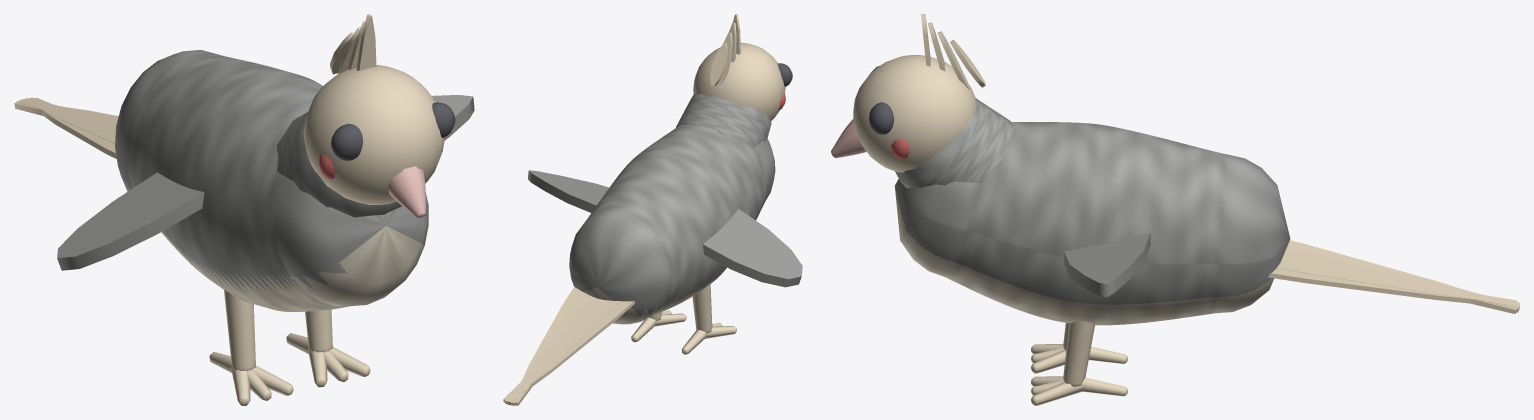
File: cockatiel-static-ai.glb
3 views of the same model, side by side, from view 1: azimuth 30°, elevation 25°; view 2: azimuth 150°, elevation 25°; view 3: azimuth 270°, elevation 25° (orthographic). The views are drawn at different scales.
Visible parts, largest first — view 1: cockatiel; view 2: cockatiel; view 3: cockatiel.
Part boxes in pixels (x1,y1,x2,y2): cockatiel: (14,14,474,405); cockatiel: (503,14,802,405); cockatiel: (831,14,1519,405).
Bounding box in the file's own units: 0.1901 × 0.1844 × 0.315.
Materials: 6 (2 with a texture image).
